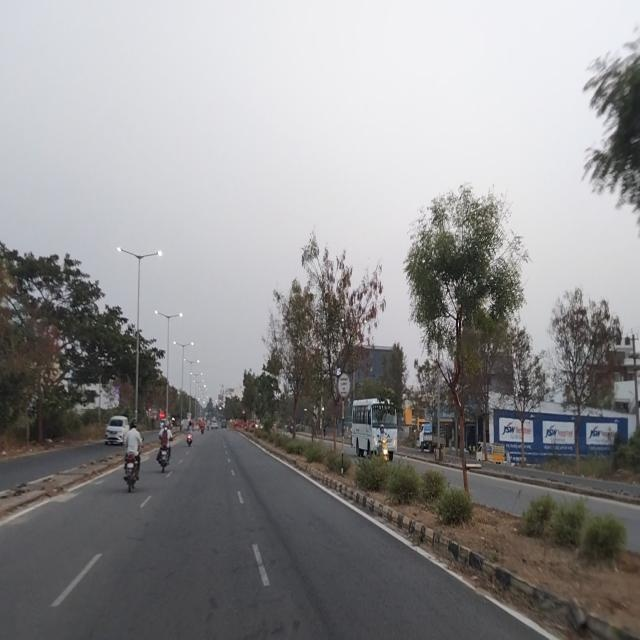bien_nguy_hiem: (336, 372, 351, 398)
